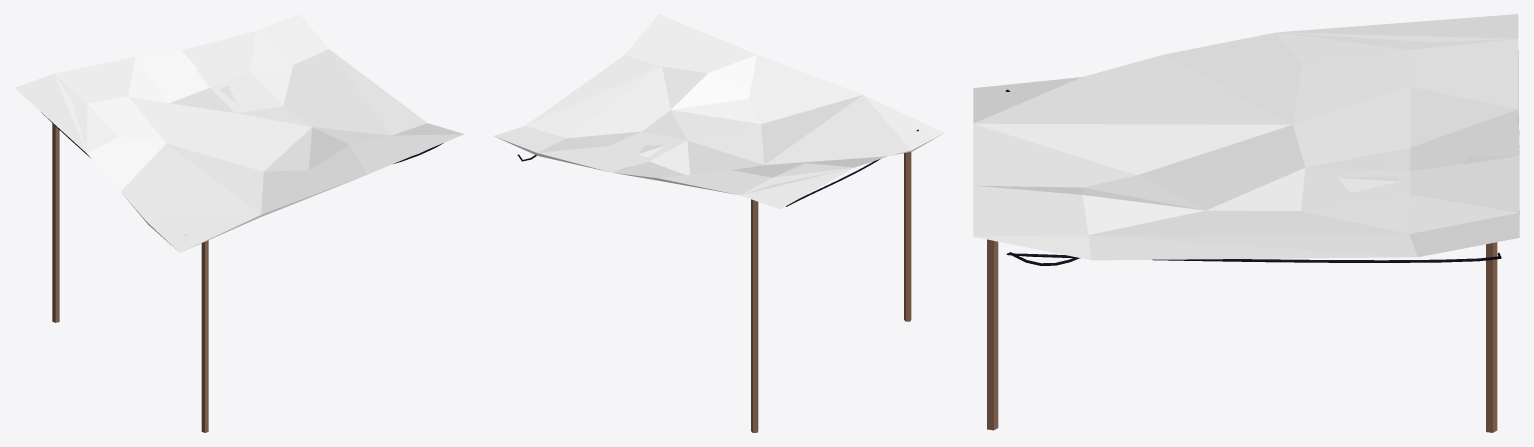
Rendered from Building_ClothThinger.fbx.
The picture shows the model from 3 angles, left to right: view 1: azimuth 30°, elevation 25°; view 2: azimuth 150°, elevation 25°; view 3: azimuth 270°, elevation 25°; orthographic projection. The views are drawn at different scales.
Visible parts, largest first — view 1: Plane.007; view 2: Plane.007; view 3: Plane.007.
Boxes of the visible parts, left/top/right/bottom form: Plane.007: left=14, top=14, right=463, bottom=432; Plane.007: left=494, top=14, right=944, bottom=432; Plane.007: left=973, top=14, right=1519, bottom=432.
Bounding box in the file's own units: 200 × 160 × 200.
